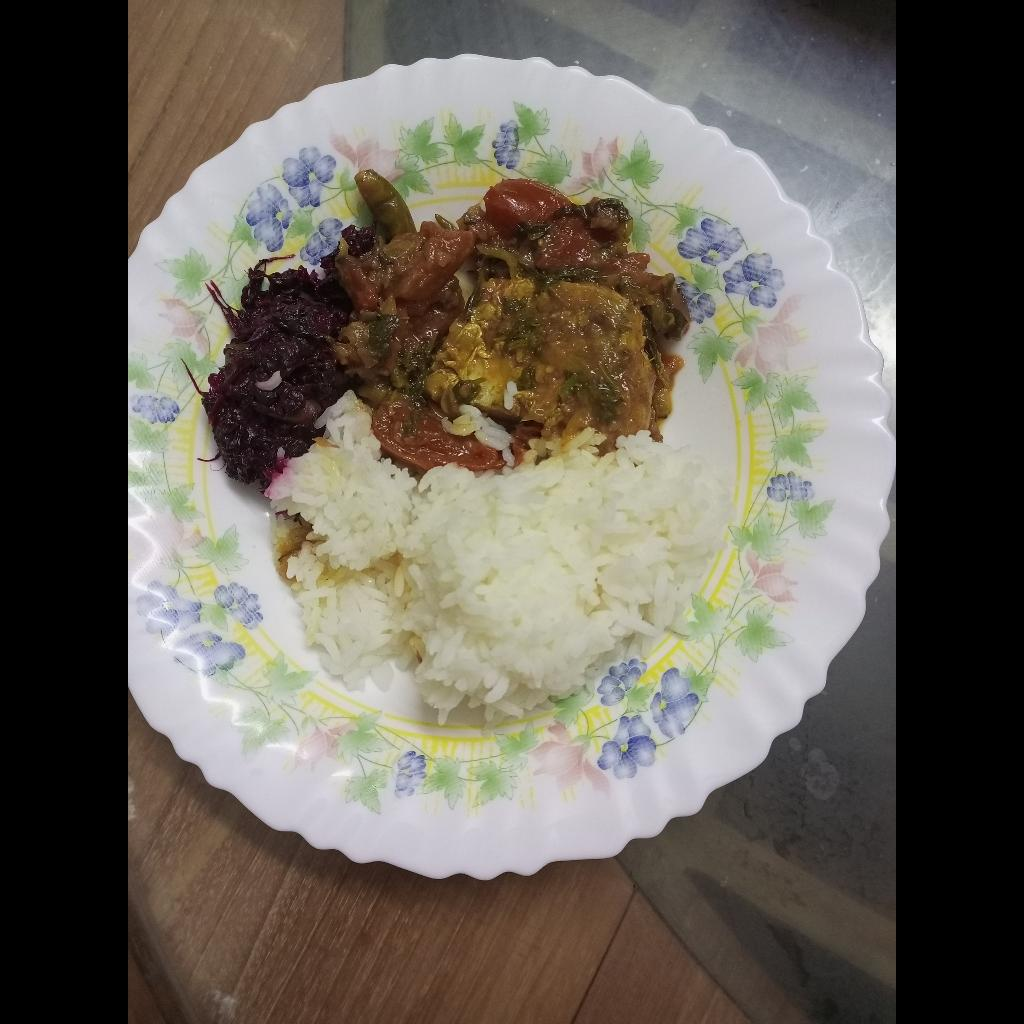fish: (435, 257, 676, 430)
lal-shak: (175, 220, 372, 486)
rice: (257, 384, 734, 730)
tomato: (343, 164, 700, 469)
